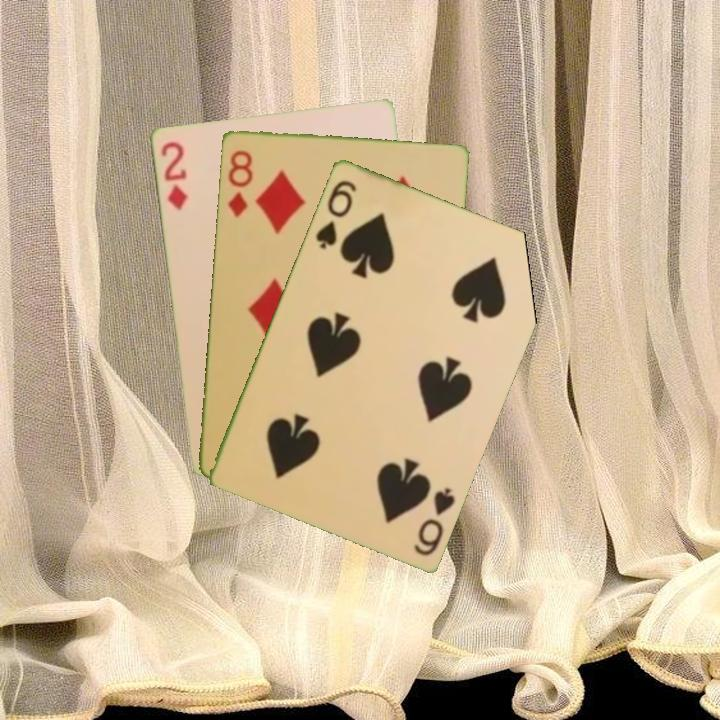2d: (157, 137, 190, 212)
6s: (409, 483, 458, 558), (311, 176, 359, 252)
8d: (224, 146, 255, 220)
